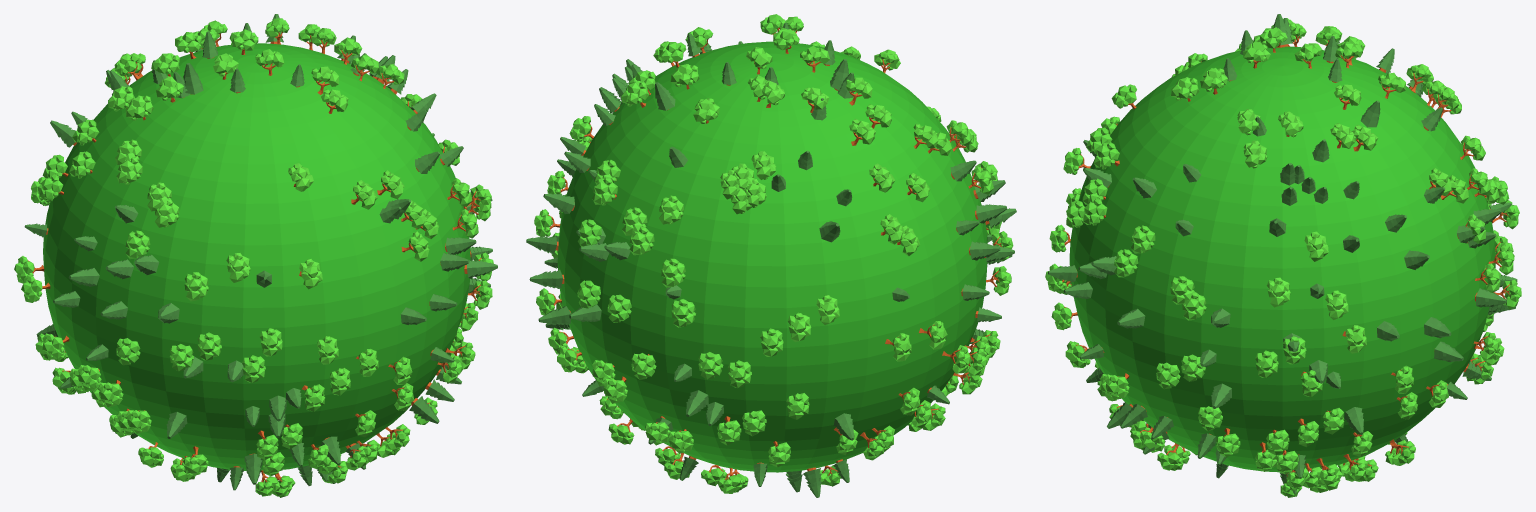
Rendered from Sphereaaaaaaa.fbx.
3 renders of one model, left to right at view 1: azimuth 30°, elevation 25°; view 2: azimuth 150°, elevation 25°; view 3: azimuth 270°, elevation 25°, orthographic.
Visible parts, largest first — view 1: Planet2Sphere, Planet2Sphere|Tree1|Dupli|88, Planet2Sphere|Tree1|Dupli|101, Planet2Sphere|Tree1|Dupli|89, Planet2Sphere|Tree1|Dupli|85, Planet2Sphere|Tree1|Dupli|90, Planet2Sphere|Tree1|Dupli|86, Planet2Sphere|Tree1|Dupli|95, Planet2Sphere|Tree1|Dupli|109; view 2: Planet2Sphere, Planet2Sphere|Tree1|Dupli|149, Planet2Sphere|Tree1|Dupli|148, Planet2Sphere|Tree1|Dupli|141, Planet2Sphere|Tree1|Dupli|9, Planet2Sphere|Tree1|Dupli|143, Planet2Sphere|Tree1|Dupli|4, Planet2Sphere|Tree1|Dupli|2, Planet2Sphere|Tree1|Dupli|133, Planet2Sphere|Tree1|Dupli|144, Planet2Sphere|Tree1|Dupli|128, Planet2Sphere|Tree1|Dupli|7; view 3: Planet2Sphere, Planet2Sphere|Tree1|Dupli|52, Planet2Sphere|Tree1|Dupli|50, Planet2Sphere|Tree1|Dupli|45, Planet2Sphere|Tree1|Dupli|34, Planet2Sphere|Tree1|Dupli|57, Planet2Sphere|Tree1|Dupli|47, Planet2Sphere|Tree1|Dupli|25, Planet2Sphere|Tree1|Dupli|29, Planet2Sphere|Tree1|Dupli|36.
Boxes of the visible parts, x1,y1,x2,y2 form: Planet2Sphere: [43, 43, 470, 470]; Planet2Sphere|Tree1|Dupli|88: [184, 272, 208, 301]; Planet2Sphere|Tree1|Dupli|101: [125, 230, 150, 259]; Planet2Sphere|Tree1|Dupli|89: [197, 332, 221, 360]; Planet2Sphere|Tree1|Dupli|85: [226, 253, 250, 282]; Planet2Sphere|Tree1|Dupli|90: [169, 344, 194, 371]; Planet2Sphere|Tree1|Dupli|86: [242, 355, 265, 382]; Planet2Sphere|Tree1|Dupli|95: [116, 338, 140, 365]; Planet2Sphere|Tree1|Dupli|109: [125, 95, 153, 120]; Planet2Sphere: [557, 41, 987, 472]; Planet2Sphere|Tree1|Dupli|149: [661, 258, 685, 287]; Planet2Sphere|Tree1|Dupli|148: [659, 195, 683, 224]; Planet2Sphere|Tree1|Dupli|141: [671, 299, 695, 327]; Planet2Sphere|Tree1|Dupli|9: [592, 177, 617, 205]; Planet2Sphere|Tree1|Dupli|143: [698, 352, 723, 379]; Planet2Sphere|Tree1|Dupli|4: [607, 294, 631, 322]; Planet2Sphere|Tree1|Dupli|2: [629, 226, 654, 255]; Planet2Sphere|Tree1|Dupli|133: [727, 360, 751, 388]; Planet2Sphere|Tree1|Dupli|144: [631, 353, 656, 379]; Planet2Sphere|Tree1|Dupli|128: [787, 312, 811, 341]; Planet2Sphere|Tree1|Dupli|7: [577, 280, 600, 308]; Planet2Sphere: [1069, 46, 1495, 472]; Planet2Sphere|Tree1|Dupli|52: [1114, 249, 1138, 277]; Planet2Sphere|Tree1|Dupli|50: [1130, 225, 1155, 253]; Planet2Sphere|Tree1|Dupli|45: [1170, 276, 1194, 304]; Planet2Sphere|Tree1|Dupli|34: [1266, 277, 1290, 307]; Planet2Sphere|Tree1|Dupli|57: [1094, 142, 1119, 169]; Planet2Sphere|Tree1|Dupli|47: [1156, 362, 1180, 389]; Planet2Sphere|Tree1|Dupli|25: [1304, 231, 1328, 261]; Planet2Sphere|Tree1|Dupli|29: [1325, 290, 1348, 319]; Planet2Sphere|Tree1|Dupli|36: [1255, 350, 1278, 378].
Size of the model in its own units: 23594 by 23449 by 23239.
